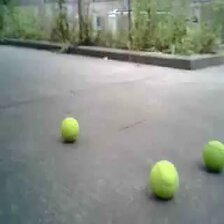tennis: (148, 162, 179, 197), (201, 139, 224, 171), (60, 116, 81, 142)
